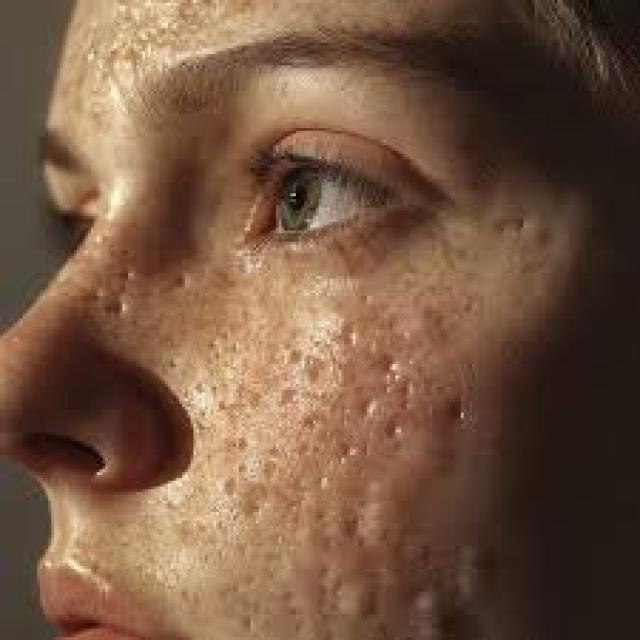Acne: (270, 327, 512, 640), (86, 236, 172, 370), (84, 10, 189, 96), (491, 200, 552, 285)
